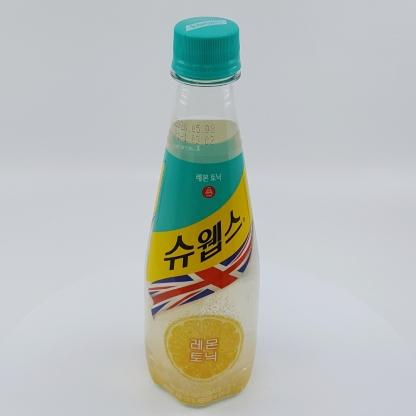-------350ML: (144, 17, 260, 406)
